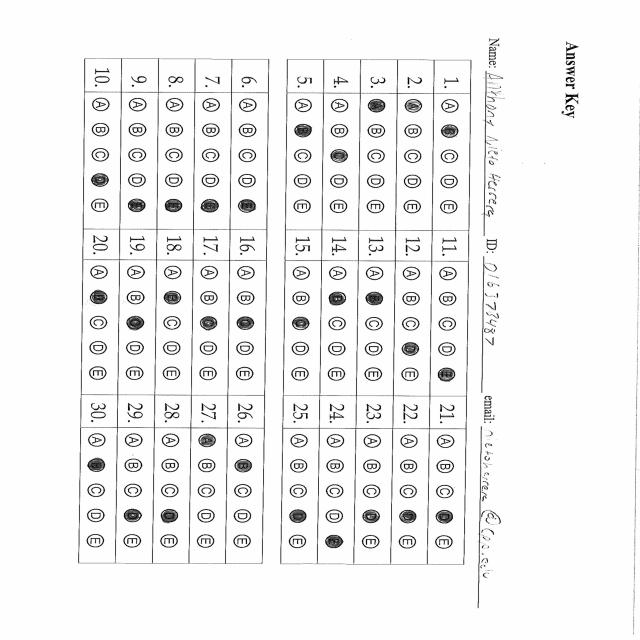EMAIL: (467, 429, 518, 612)
ID: (476, 257, 521, 397)
Name: (477, 69, 511, 236)
Q10_A_Unmarked: (88, 94, 114, 117)
Q10_B_Unmarked: (88, 121, 112, 141)
Q10_C_Unmarked: (88, 144, 114, 165)
Q10_D_Marked: (88, 172, 112, 190)
Q10_E_Unmarked: (87, 197, 112, 217)
Q11_A_Unmarked: (435, 265, 461, 284)
Q11_B_Unmarked: (436, 289, 460, 309)
Q11_C_Unmarked: (436, 315, 461, 334)
Q11_D_Unmarked: (436, 340, 459, 360)
Q11_E_Marked: (435, 365, 458, 386)
Q12_A_Unmarked: (399, 264, 426, 285)
Q12_B_Unmarked: (400, 290, 426, 309)
Q12_C_Unmarked: (399, 314, 423, 334)
Q12_D_Marked: (399, 340, 423, 360)
Q12_E_Unmarked: (399, 366, 423, 386)
Q13_A_Unmarked: (362, 264, 389, 286)
Q13_B_Marked: (362, 289, 387, 310)
Q13_C_Unmarked: (362, 315, 388, 335)
Q13_D_Unmarked: (362, 341, 390, 361)
Q13_E_Unmarked: (360, 365, 386, 384)
Q14_A_Unmarked: (324, 266, 350, 286)
Q14_B_Marked: (326, 288, 352, 310)
Q14_C_Unmarked: (325, 313, 350, 335)
Q14_D_Unmarked: (324, 340, 350, 361), (325, 365, 350, 386)
Q15_A_Unmarked: (289, 264, 314, 284)
Q15_B_Unmarked: (289, 288, 315, 310)
Q15_C_Marked: (288, 314, 314, 336)
Q15_D_Unmarked: (289, 338, 313, 361)
Q15_E_Unmarked: (289, 365, 314, 385)
Q16_A_Unmarked: (233, 263, 260, 285)
Q16_B_Unmarked: (233, 288, 259, 308)
Q16_C_Marked: (232, 313, 260, 336)
Q16_D_Unmarked: (232, 339, 261, 361)
Q16_E_Unmarked: (232, 364, 259, 388)
Q17_A_Unmarked: (198, 264, 222, 282)
Q17_B_Unmarked: (196, 289, 221, 310)
Q17_C_Marked: (196, 315, 222, 334)
Q17_D_Unmarked: (197, 339, 223, 358)
Q17_E_Unmarked: (196, 364, 222, 384)
Q18_A_Unmarked: (161, 262, 187, 284)
Q18_B_Marked: (161, 289, 186, 309)
Q18_C_Unmarked: (161, 313, 187, 336)
Q18_D_Unmarked: (160, 338, 185, 361)
Q18_E_Unmarked: (160, 364, 186, 386)
Q19_A_Unmarked: (123, 262, 150, 284)
Q19_B_Unmarked: (122, 287, 149, 311)
Q19_C_Marked: (123, 313, 149, 333)
Q19_D_Unmarked: (124, 341, 149, 358)
Q19_E_Unmarked: (124, 365, 148, 385)
Q1_A_Unmarked: (438, 96, 463, 116)
Q1_B_Marked: (436, 121, 464, 142)
Q1_C_Unmarked: (437, 146, 465, 167)
Q1_D_Unmarked: (436, 172, 462, 193)
Q1_E_Unmarked: (436, 196, 463, 218)
Q20_A_Unmarked: (85, 264, 112, 284)
Q20_B_Marked: (86, 288, 114, 308)
Q20_C_Unmarked: (85, 311, 113, 335)
Q20_D_Unmarked: (86, 338, 113, 356)
Q20_E_Unmarked: (85, 362, 111, 385)
Q21_A_Unmarked: (432, 430, 462, 455)
Q21_B_Unmarked: (432, 459, 460, 479)
Q21_C_Unmarked: (432, 482, 460, 504)
Q21_D_Marked: (433, 507, 457, 528)
Q21_E_Unmarked: (430, 534, 459, 554)
Q22_A_Unmarked: (396, 433, 421, 453)
Q22_B_Unmarked: (397, 456, 423, 476)
Q22_C_Unmarked: (396, 482, 421, 501)
Q22_D_Marked: (395, 507, 423, 529)
Q22_E_Unmarked: (393, 532, 422, 555)
Q23_A_Unmarked: (358, 431, 388, 451)
Q23_B_Unmarked: (358, 456, 389, 475)
Q23_C_Unmarked: (359, 483, 386, 505)
Q23_D_Marked: (357, 507, 387, 528)
Q23_E_Unmarked: (357, 534, 388, 554)
Q24_A_Unmarked: (321, 433, 351, 454)
Q24_B_Unmarked: (322, 457, 352, 477)
Q24_C_Unmarked: (321, 482, 351, 505)
Q24_D_Unmarked: (321, 507, 349, 528)
Q24_E_Marked: (320, 531, 349, 552)
Q25_A_Unmarked: (283, 430, 312, 450)
Q25_B_Unmarked: (284, 456, 312, 476)
Q25_C_Unmarked: (285, 481, 313, 502)
Q25_D_Marked: (286, 508, 312, 526)
Q25_E_Unmarked: (282, 531, 312, 551)
Q26_A_Unmarked: (230, 431, 259, 451)
Q26_B_Marked: (229, 456, 258, 476)
Q26_C_Unmarked: (229, 480, 259, 503)
Q26_D_Unmarked: (230, 506, 260, 525)
Q26_E_Unmarked: (228, 532, 258, 554)
Q27_A_Marked: (194, 432, 222, 452)
Q27_B_Unmarked: (192, 457, 220, 477)
Q27_C_Unmarked: (192, 482, 220, 503)
Q27_D_Unmarked: (192, 508, 222, 529)
Q27_E_Unmarked: (192, 530, 221, 554)
Q28_A_Unmarked: (157, 431, 187, 450)
Q28_B_Unmarked: (157, 456, 184, 477)
Q28_C_Unmarked: (156, 483, 183, 501)
Q28_D_Marked: (157, 506, 184, 526)
Q28_E_Unmarked: (156, 531, 185, 552)
Q29_A_Unmarked: (120, 432, 148, 452)
Q29_B_Unmarked: (121, 456, 150, 479)
Q29_C_Unmarked: (119, 482, 148, 503)
Q29_D_Marked: (119, 507, 149, 526)
Q29_E_Unmarked: (119, 532, 148, 554)
Q2_A_Marked: (400, 97, 428, 117)
Q2_B_Unmarked: (401, 122, 426, 142)
Q2_C_Unmarked: (400, 144, 430, 168)
Q2_D_Unmarked: (399, 172, 429, 193)
Q2_E_Unmarked: (400, 197, 427, 220)
Q30_A_Unmarked: (83, 431, 111, 453)
Q30_B_Marked: (82, 456, 112, 477)
Q30_C_Unmarked: (82, 482, 111, 502)
Q30_D_Unmarked: (81, 505, 113, 528)
Q30_E_Unmarked: (83, 531, 110, 550)
Q3_A_Marked: (364, 97, 389, 119)
Q3_B_Unmarked: (364, 121, 388, 143)
Q3_C_Unmarked: (364, 146, 390, 166)
Q3_D_Unmarked: (365, 172, 387, 194)
Q3_E_Unmarked: (365, 198, 387, 217)
Q4_A_Unmarked: (326, 96, 354, 116)
Q4_B_Unmarked: (326, 121, 352, 142)
Q4_C_Marked: (326, 146, 354, 167)
Q4_D_Unmarked: (326, 172, 354, 194)
Q4_E_Unmarked: (327, 198, 352, 217)
Q5_A_Unmarked: (291, 95, 315, 119)
Q5_B_Marked: (292, 121, 315, 142)
Q5_C_Unmarked: (291, 147, 316, 165)
Q5_D_Unmarked: (290, 172, 316, 192)
Q5_E_Unmarked: (290, 197, 316, 218)
Q6_A_Unmarked: (233, 96, 263, 116)
Q6_B_Unmarked: (235, 122, 262, 142)
Q6_C_Unmarked: (233, 146, 263, 166)
Q6_D_Unmarked: (234, 172, 262, 192)
Q6_E_Marked: (235, 198, 260, 220)
Q7_A_Unmarked: (199, 98, 222, 116)
Q7_B_Unmarked: (201, 120, 224, 140)
Q7_C_Unmarked: (199, 145, 224, 165)
Q7_D_Unmarked: (198, 172, 224, 190)
Q7_E_Marked: (198, 197, 225, 218)
Q8_A_Unmarked: (160, 97, 189, 116)
Q8_B_Unmarked: (160, 120, 190, 140)
Q8_C_Unmarked: (162, 145, 189, 165)
Q8_D_Unmarked: (161, 170, 187, 191)
Q8_E_Marked: (160, 198, 187, 218)
Q9_A_Unmarked: (125, 95, 151, 114)
Q9_B_Unmarked: (125, 120, 150, 141)
Q9_C_Unmarked: (126, 146, 150, 166)
Q9_D_Unmarked: (126, 171, 150, 192)
Q9_E_Marked: (124, 196, 150, 220)
